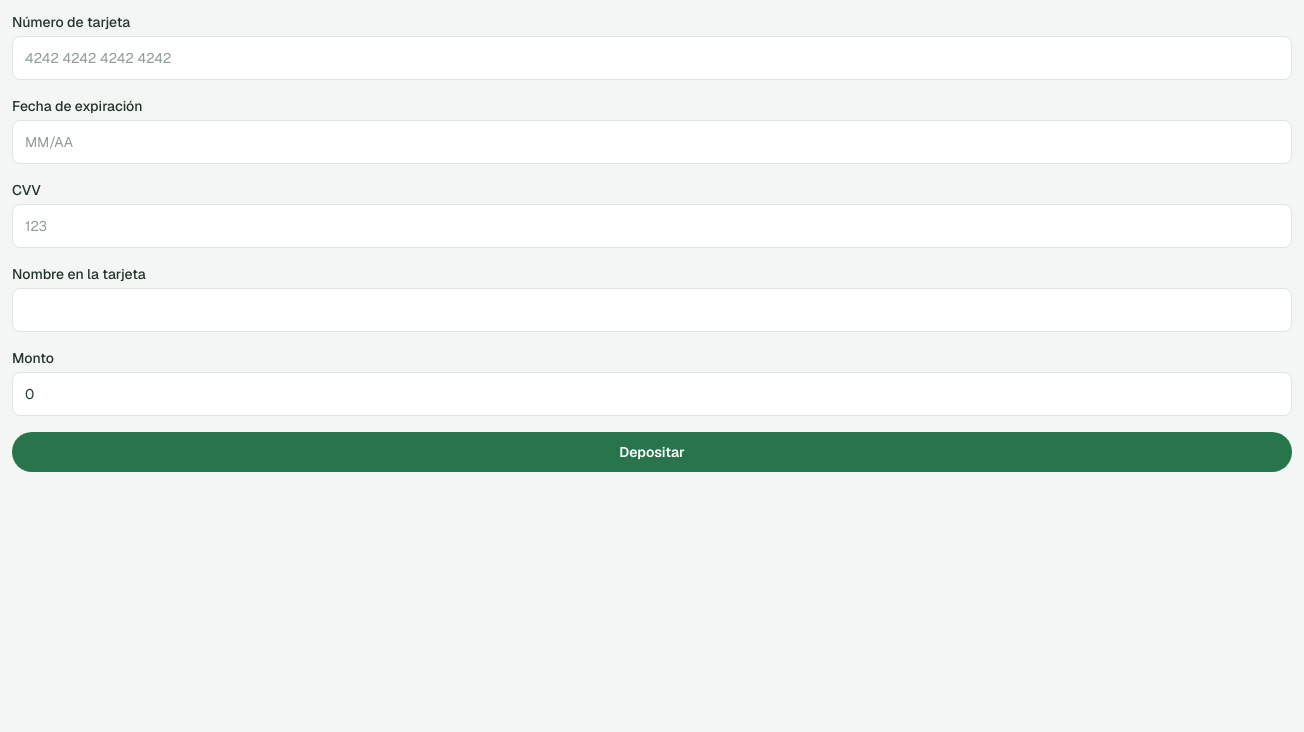
Test case: DepositForm › shows a field error when the cvv is wrong
In the field labelled "Número de tarjeta": [652, 58] box top-left (12, 36), bottom-right (1292, 80), type "4242424242424242"
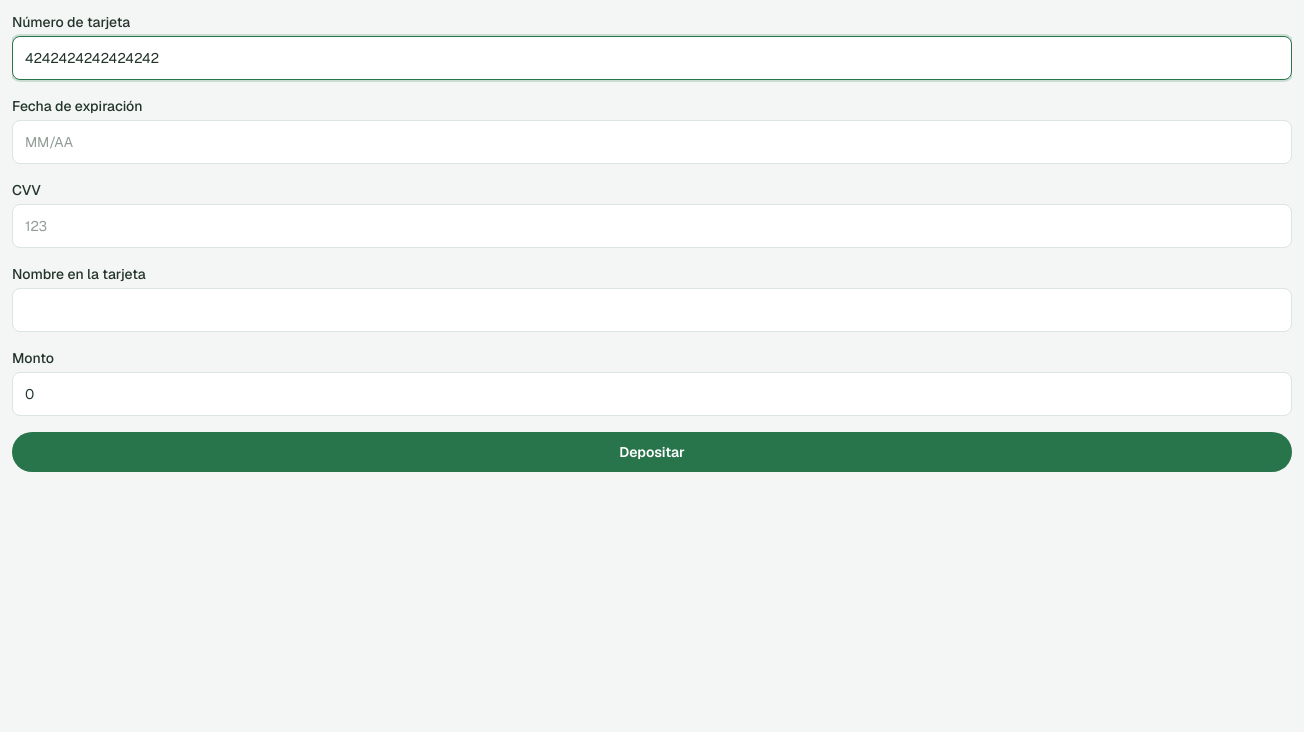
In the field labelled "Fecha de expiración": [652, 142] box top-left (12, 120), bottom-right (1292, 164), type "12/30"
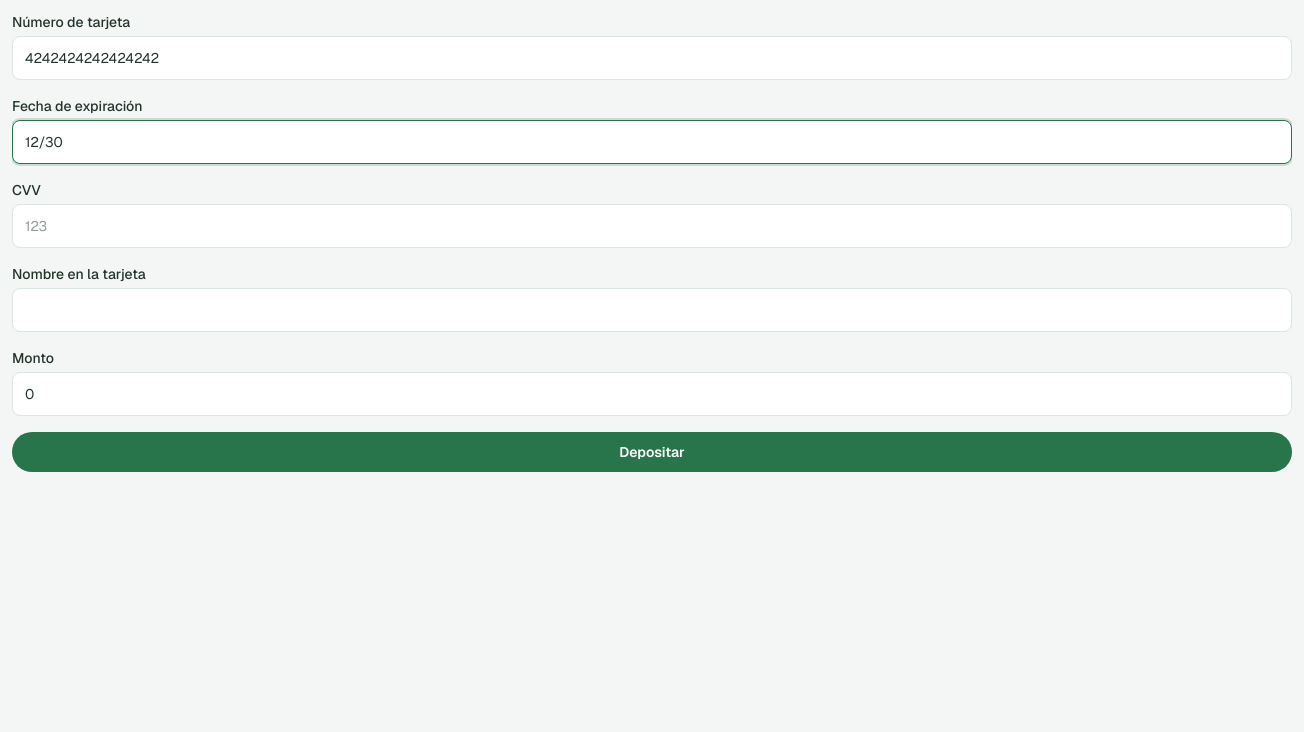
In the password field labelled "CVV": [652, 226] box top-left (12, 204), bottom-right (1292, 248), type "12"
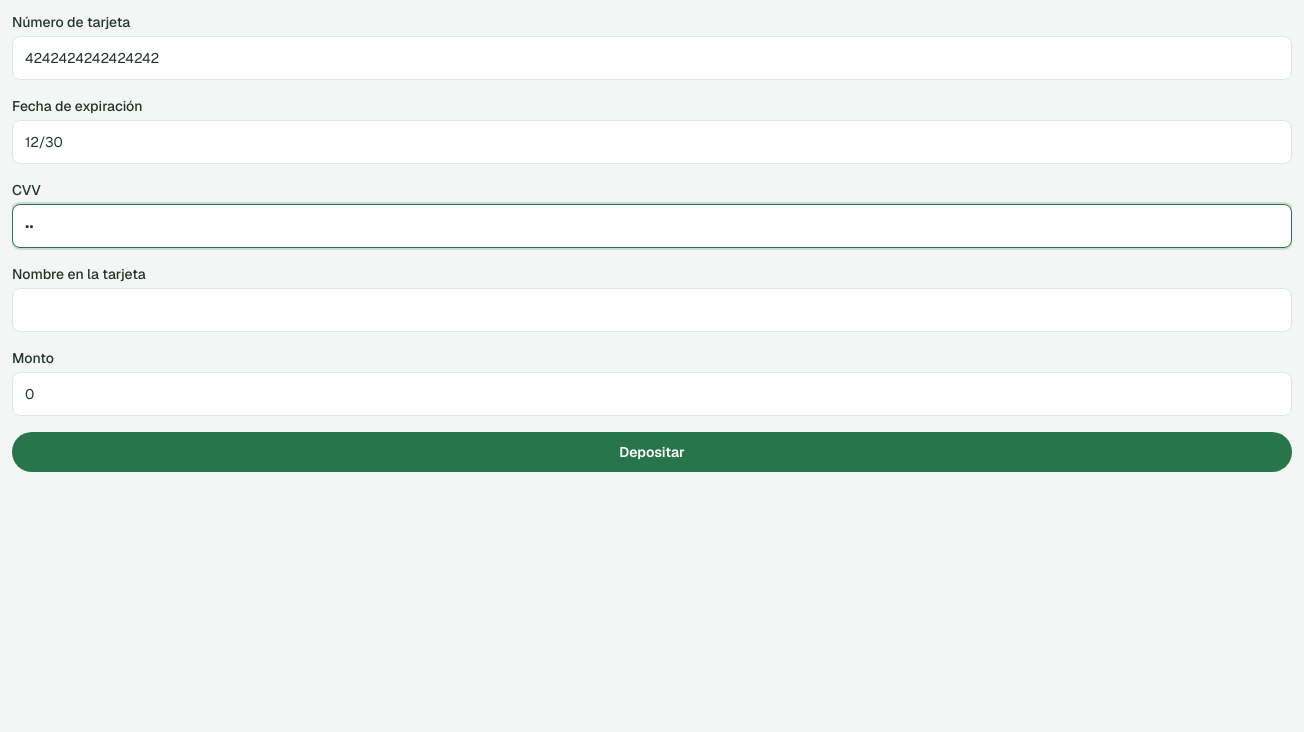
In the field labelled "Nombre en la tarjeta": [652, 310] box top-left (12, 288), bottom-right (1292, 332), type "Ana Martínez"
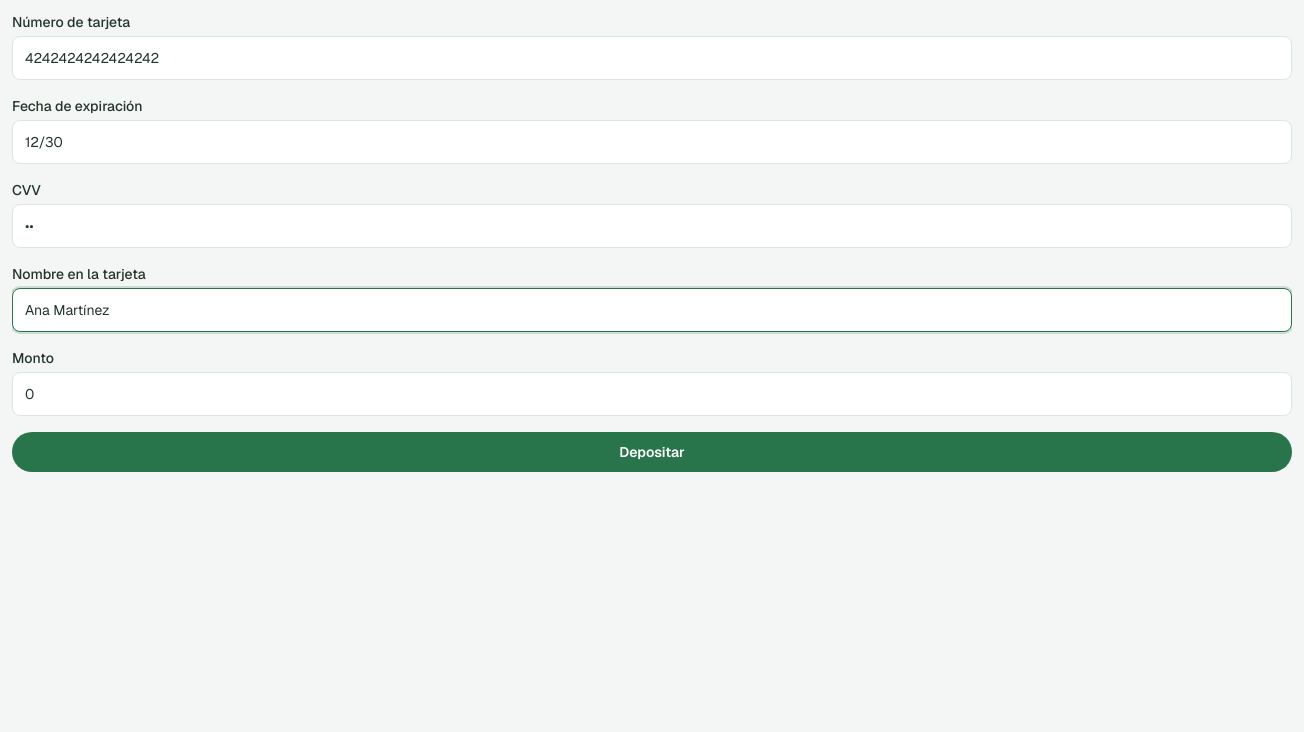
In the number field labelled "Monto": [652, 394] box top-left (12, 372), bottom-right (1292, 416), type "500"
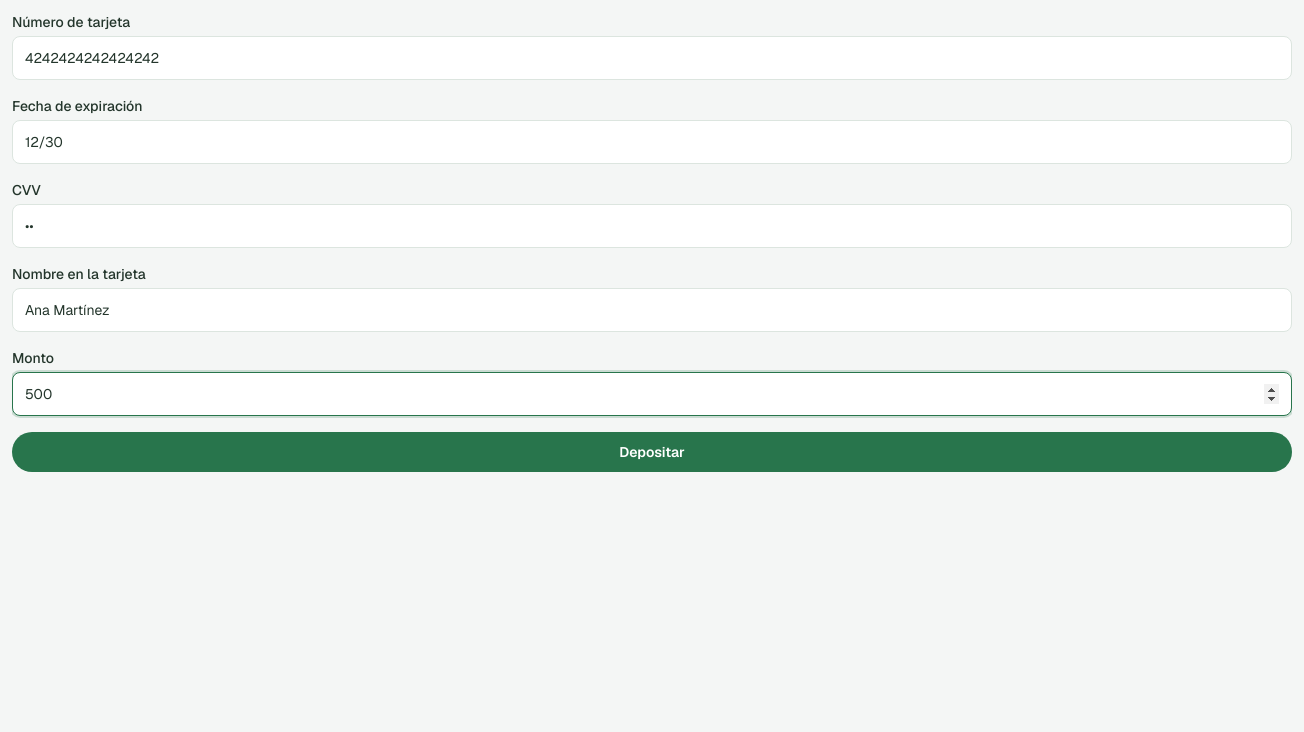
Click the button "Depositar": [652, 452] box top-left (12, 432), bottom-right (1292, 472)
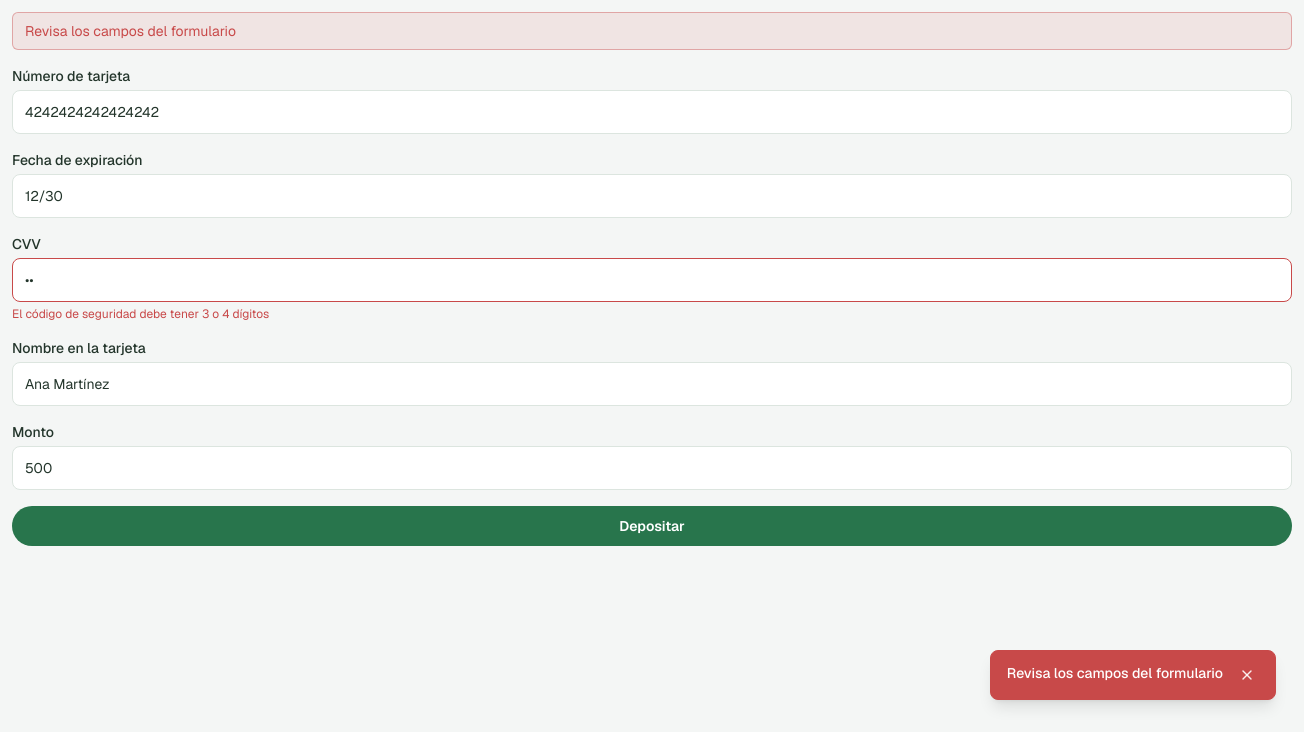
Expected: the text "El código de seguridad debe tener 3 o 4 dígitos" is shown, top-left (12, 306), bottom-right (269, 322)
